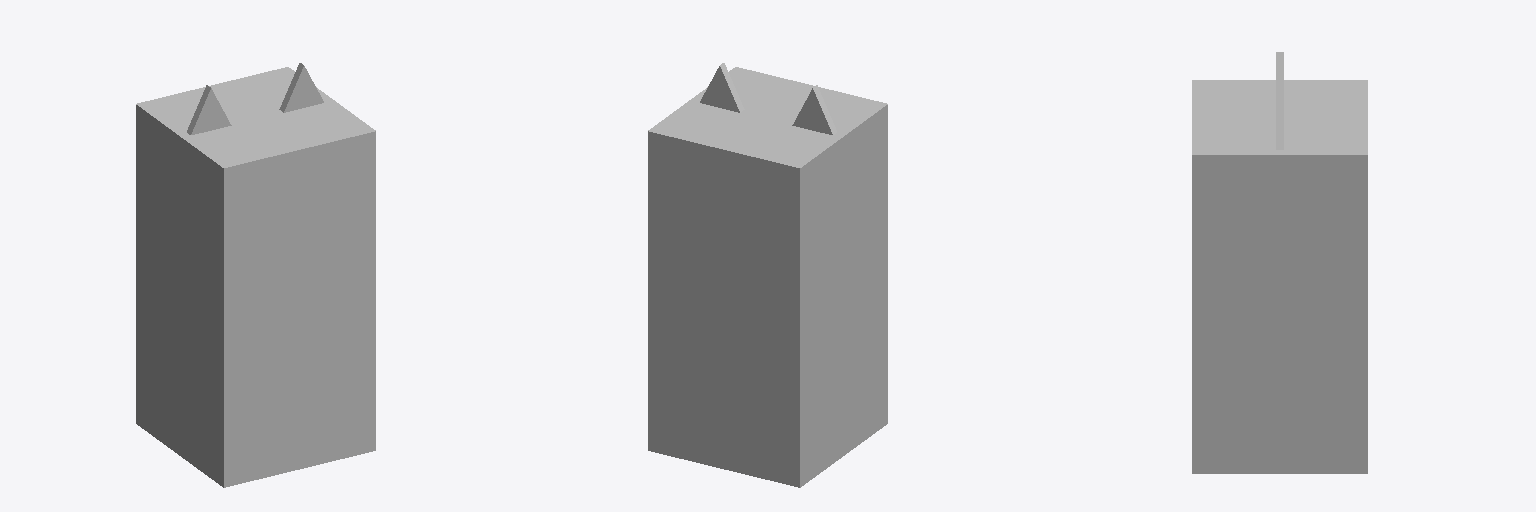
File: debug_cat.obj
The picture shows the model from 3 angles: view 1: azimuth 30°, elevation 25°; view 2: azimuth 150°, elevation 25°; view 3: azimuth 270°, elevation 25°; orthographic projection.
Parts seen in each view (by area): view 1: Cube, Cube.002, Cube.001; view 2: Cube, Cube.002, Cube.001; view 3: Cube.
Part boxes in pixels (left/top/right/bottom): Cube: left=136, top=67, right=375, bottom=487; Cube.002: left=187, top=85, right=231, bottom=134; Cube.001: left=279, top=63, right=323, bottom=112; Cube: left=648, top=67, right=887, bottom=487; Cube.002: left=792, top=85, right=836, bottom=134; Cube.001: left=700, top=63, right=744, bottom=112; Cube: left=1192, top=80, right=1367, bottom=473.
Bounding box in the file's own units: 2 × 4.53 × 2.